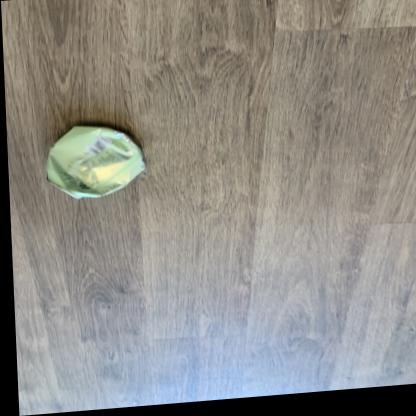trash: (48, 126, 144, 198)
